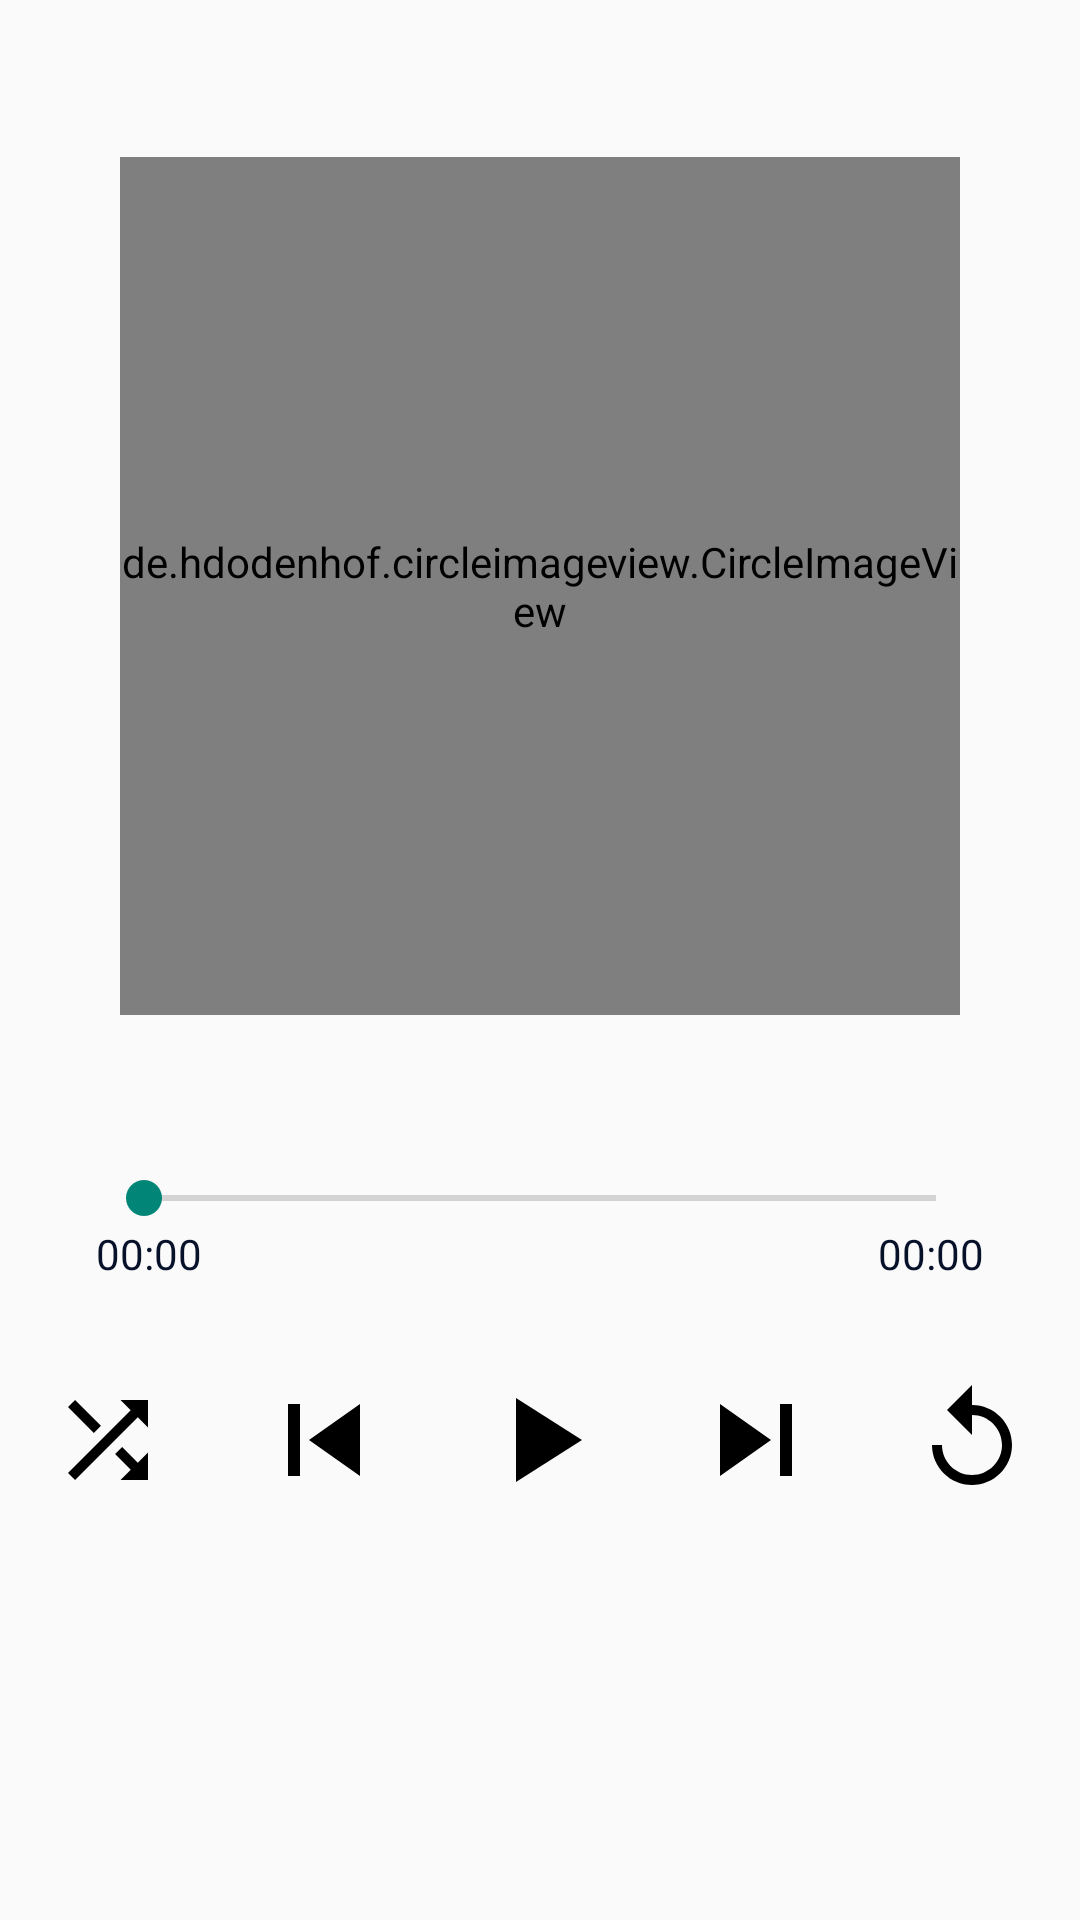

Icon bounding boxes for this 1080 x 1920 phone screenshot, format [left=x1, top=y1, right=x2, bottom=y2]:
next: [left=720, top=1404, right=792, bottom=1476]
play: [left=516, top=1398, right=582, bottom=1482]
replay: [left=932, top=1385, right=1012, bottom=1485]
shuffle: [left=68, top=1400, right=148, bottom=1480]
skip previous: [left=288, top=1404, right=360, bottom=1476]
